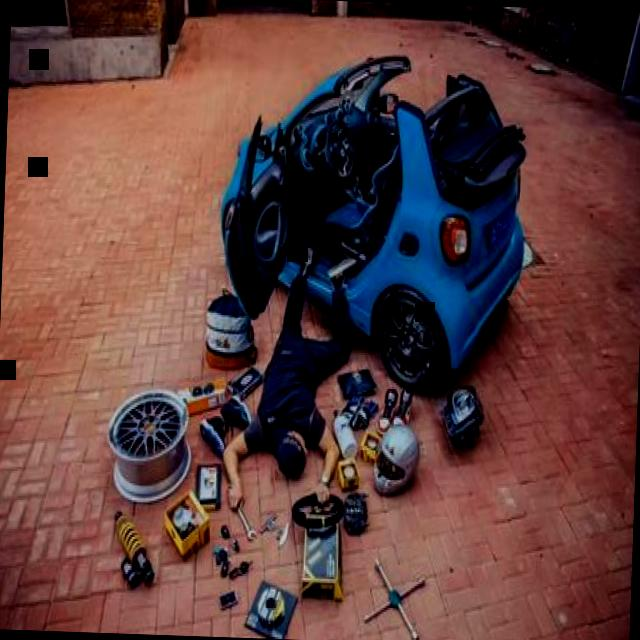Fall-Detected: (210, 216, 368, 530)
